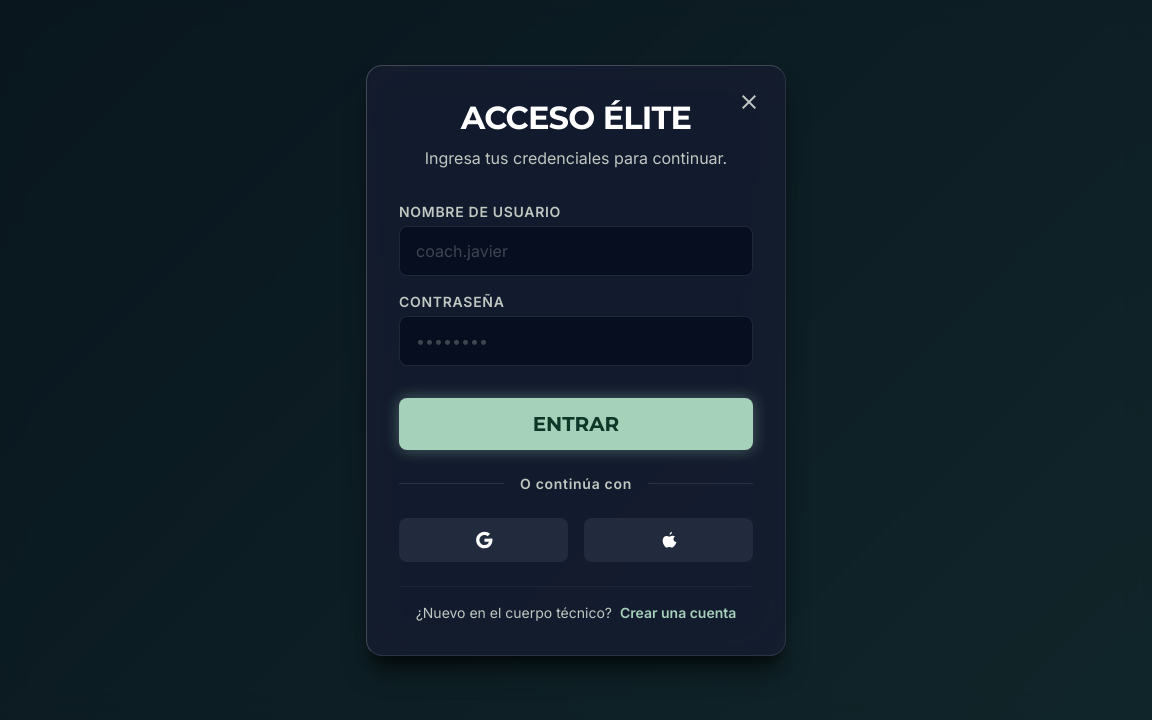
LoginModal › vuelve al modo login desde registro
This screenshot has width=1152, height=720.
Click the button "Crear una cuenta": (678, 612) 620,602 -> 736,622
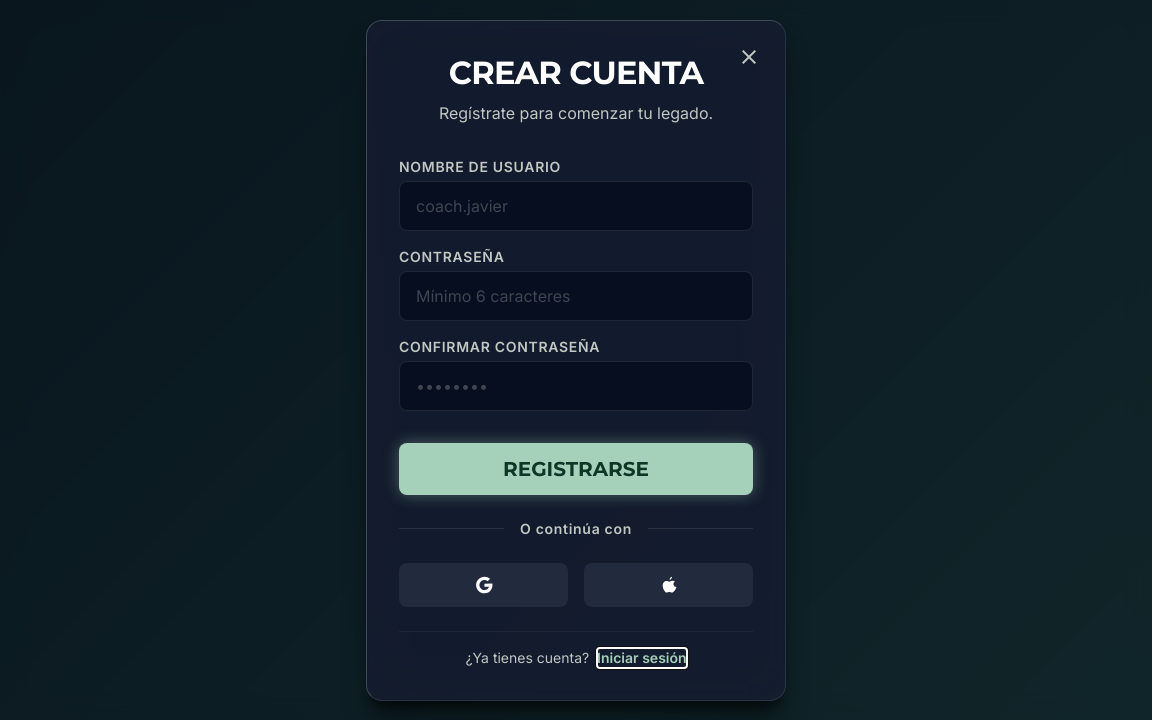
Expected: the heading "Crear Cuenta" is shown, 449,52 -> 703,92
Click the button "Iniciar sesión": (642, 658) 597,648 -> 687,668
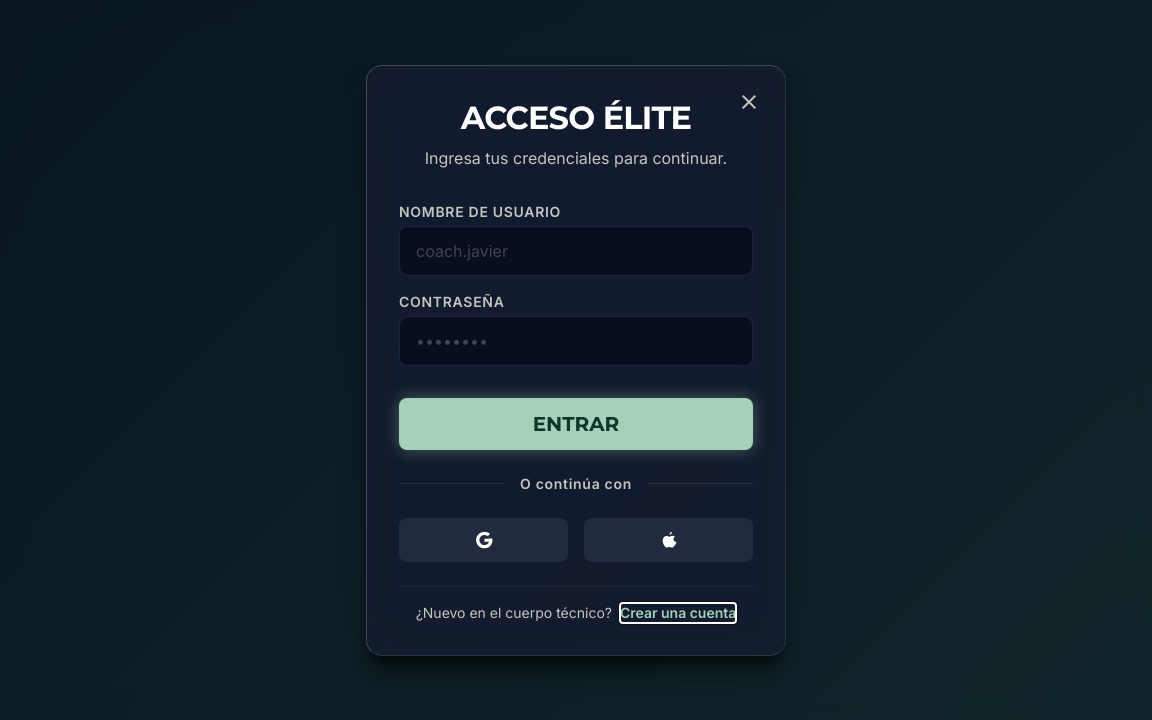
Expected: the heading "Acceso Élite" is shown, 461,98 -> 691,136
Expected: the button "Entrar" is shown, 399,398 -> 753,450
